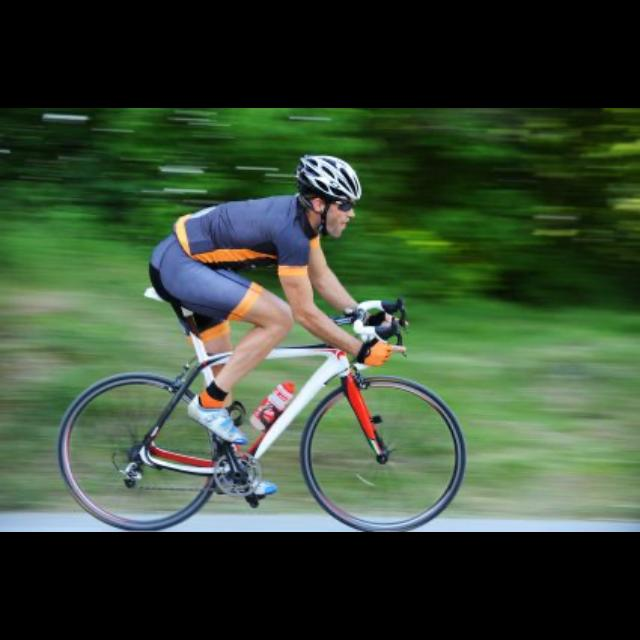With Helmet: (292, 148, 364, 244)
